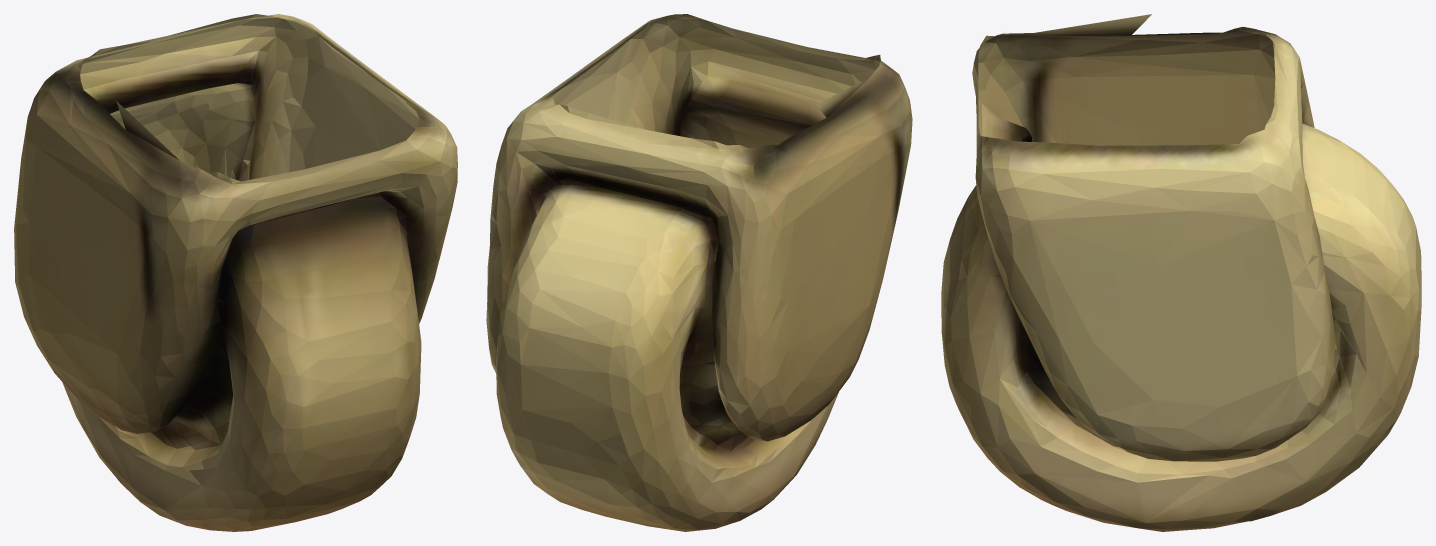
The model's file is wheel_3.glb.
3 renders of one model, left to right at view 1: azimuth 30°, elevation 25°; view 2: azimuth 150°, elevation 25°; view 3: azimuth 270°, elevation 25°, orthographic. The views are drawn at different scales.
Visible parts, largest first — view 1: source_surface_0; view 2: source_surface_0; view 3: source_surface_0.
Boxes of the visible parts, x1,y1,x2,y2 form: source_surface_0: [14, 14, 457, 531]; source_surface_0: [486, 14, 912, 531]; source_surface_0: [941, 14, 1421, 531].
Size of the model in its own units: 0.0221 by 0.0304 by 0.0312.
Materials: 1 (1 with a texture image).
